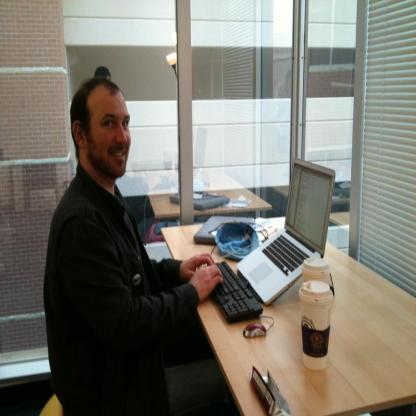board: (237, 160, 336, 306), (298, 284, 334, 372), (302, 257, 330, 287)
